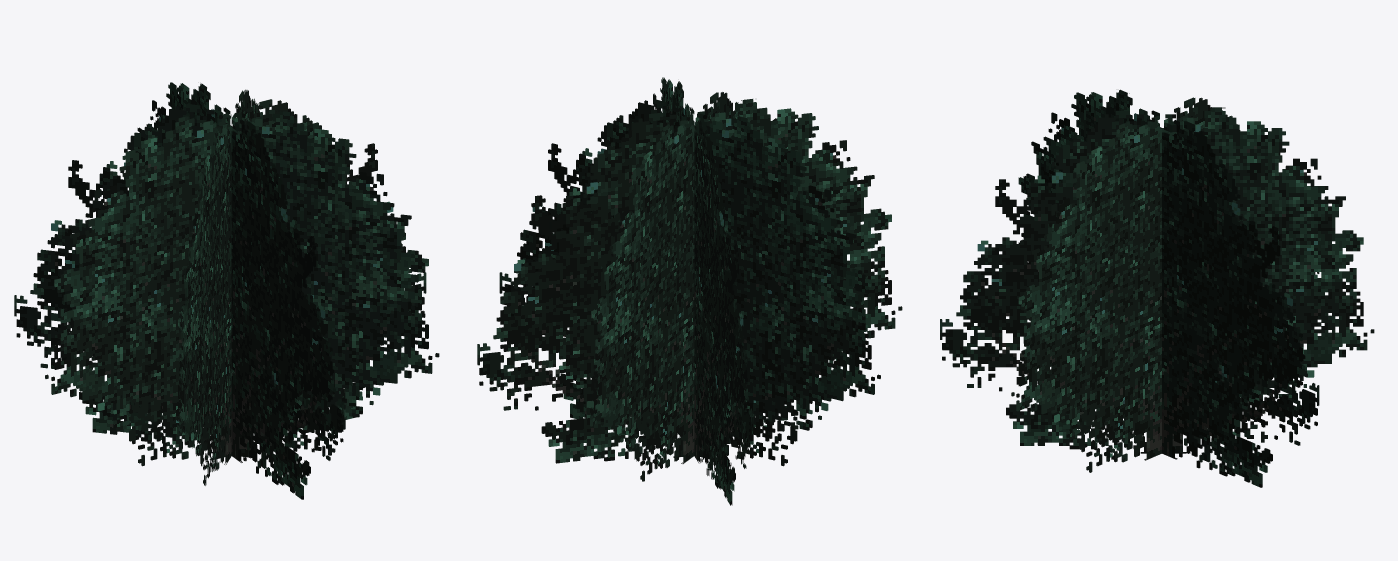
File: bush08.glb
3 renders of one model, left to right at view 1: azimuth 30°, elevation 25°; view 2: azimuth 150°, elevation 25°; view 3: azimuth 270°, elevation 25°, orthographic.
Parts seen in each view (by area): view 1: bush08; view 2: bush08; view 3: bush08.
Part boxes in pixels (bbox=[...]): bush08: bbox=[14, 82, 439, 499]; bush08: bbox=[477, 77, 902, 505]; bush08: bbox=[940, 89, 1374, 487].
Size of the model in its own units: 1.4 by 1.2 by 1.4.
1 material, 1 textured.
